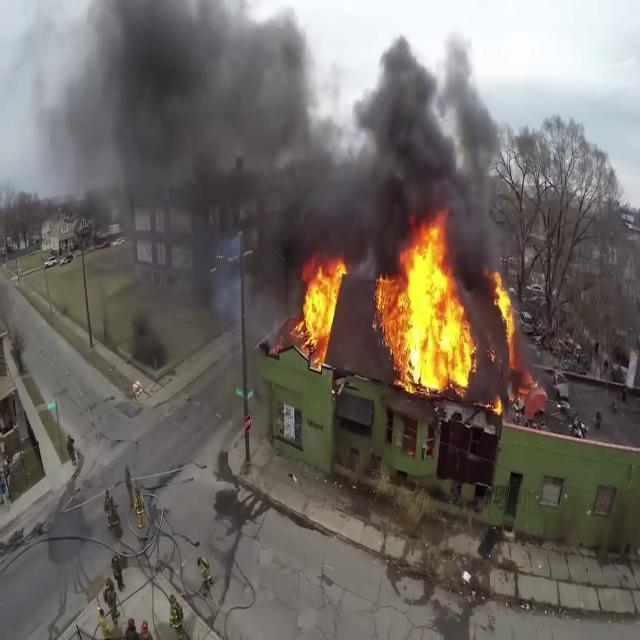Fire: (374, 221, 480, 399), (292, 254, 346, 364), (490, 266, 520, 362)
Smoke: (55, 0, 507, 284)
